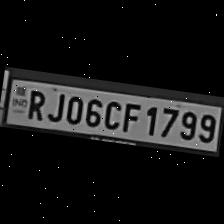0: (62, 92, 84, 125)
1: (139, 102, 160, 137)
6: (80, 94, 104, 128)
7: (154, 104, 178, 139)
9: (194, 109, 218, 145), (176, 106, 198, 140)
C: (100, 97, 122, 131)
F: (119, 99, 142, 134)
J: (45, 88, 66, 124)
R: (22, 86, 48, 122)
